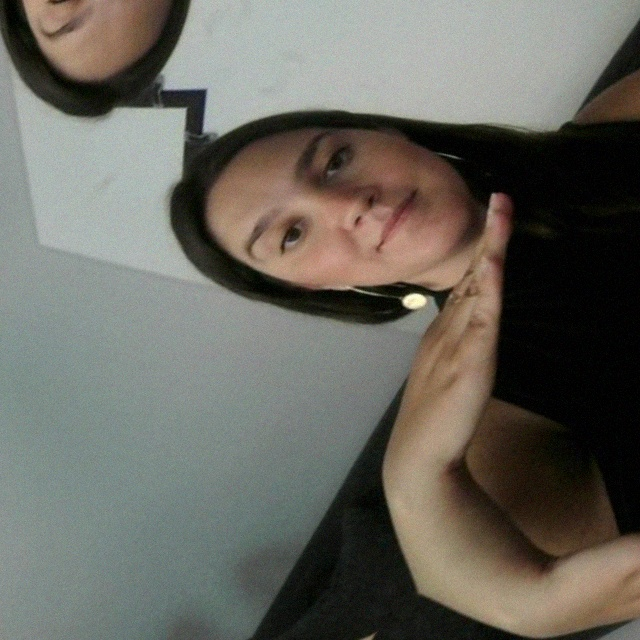Paper: (282, 138, 640, 510)
